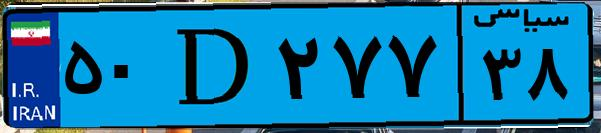0: (110, 28, 158, 98)
2: (270, 28, 330, 110)
3: (475, 38, 525, 113)
5: (57, 26, 110, 100)
7: (385, 28, 445, 110), (330, 28, 385, 110)
8: (525, 38, 570, 115)
D: (158, 12, 270, 120)
